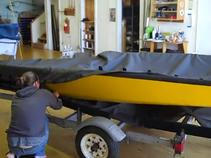stay: (173, 133, 185, 152)
